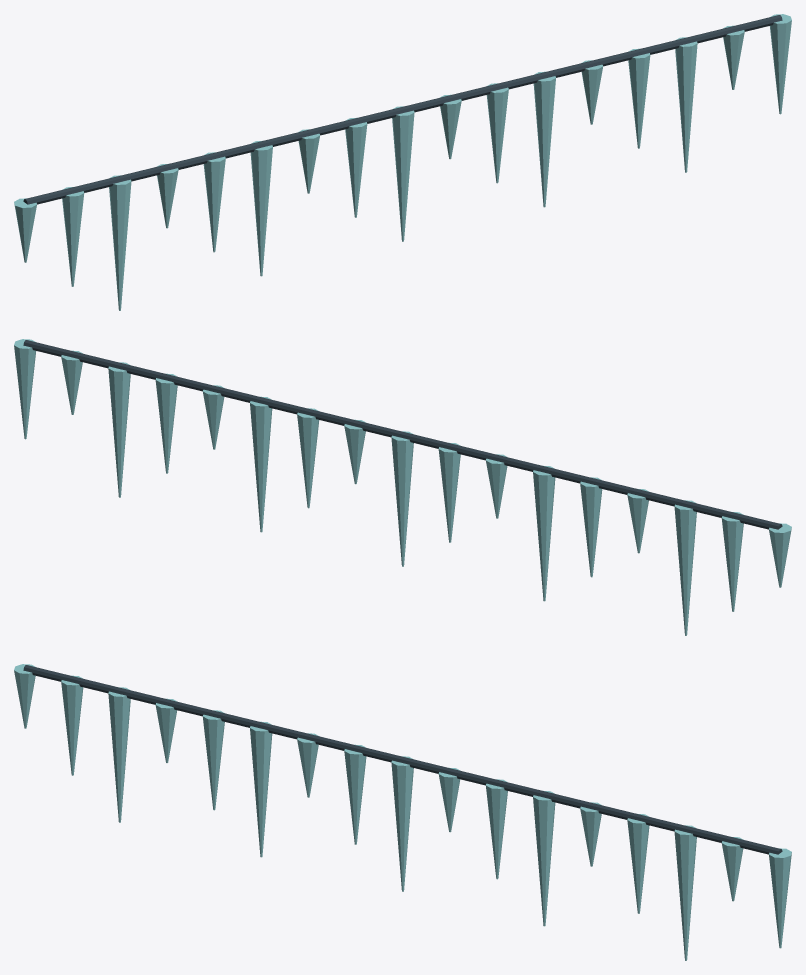
Rendered from string_lights_icicle.glb.
The picture shows the model from 3 angles, top to bottom: view 1: azimuth 30°, elevation 25°; view 2: azimuth 150°, elevation 25°; view 3: azimuth 330°, elevation 25°; orthographic projection.
Parts seen in each view (by area): view 1: cable, icicle.014, icicle.002, icicle.008, icicle.011, icicle.005, icicle.016, icicle.004, icicle.007, icicle.010, icicle.013, icicle.001 (+6 smaller); view 2: cable, icicle.014, icicle.002, icicle.008, icicle.011, icicle.005, icicle.016, icicle.004, icicle.007, icicle.010, icicle.013, icicle.001 (+6 smaller); view 3: cable, icicle.002, icicle.005, icicle.008, icicle.014, icicle.011, icicle.016, icicle.004, icicle.010, icicle.001, icicle.013, icicle.007 (+6 smaller).
Boxes of the visible parts, <box> form: cable: <box>23,15,782,204</box>; icicle.014: <box>675,37,697,172</box>; icicle.002: <box>109,175,131,310</box>; icicle.008: <box>392,106,414,241</box>; icicle.011: <box>533,71,555,207</box>; icicle.005: <box>250,140,272,276</box>; icicle.016: <box>769,14,791,114</box>; icicle.004: <box>203,152,225,252</box>; icicle.007: <box>345,117,367,217</box>; icicle.010: <box>486,83,508,183</box>; icicle.013: <box>628,48,650,148</box>; icicle.001: <box>62,186,84,286</box>; cable: <box>23,340,782,529</box>; icicle.014: <box>108,362,130,497</box>; icicle.002: <box>674,500,696,635</box>; icicle.008: <box>391,431,413,566</box>; icicle.011: <box>250,396,272,532</box>; icicle.005: <box>533,465,555,601</box>; icicle.016: <box>14,339,36,439</box>; icicle.004: <box>580,477,602,577</box>; icicle.007: <box>438,442,460,542</box>; icicle.010: <box>297,408,319,508</box>; icicle.013: <box>155,373,177,473</box>; icicle.001: <box>721,511,743,611</box>; cable: <box>23,665,782,854</box>; icicle.002: <box>108,687,130,822</box>; icicle.005: <box>250,721,272,857</box>; icicle.008: <box>391,756,413,891</box>; icicle.014: <box>674,825,696,960</box>; icicle.011: <box>533,790,555,926</box>; icicle.016: <box>769,848,791,948</box>; icicle.004: <box>202,710,224,810</box>; icicle.010: <box>485,779,507,879</box>; icicle.001: <box>61,675,83,775</box>; icicle.013: <box>627,813,649,913</box>; icicle.007: <box>344,744,366,844</box>.
Size of the model in its own units: 4.11 by 0.68 by 0.11.
